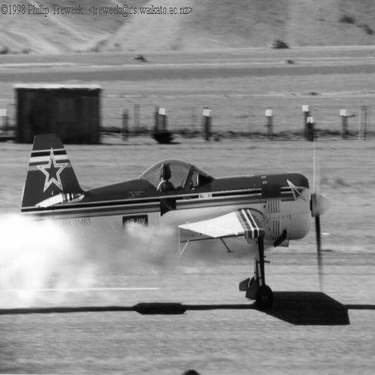airplane: (4, 114, 336, 314)
